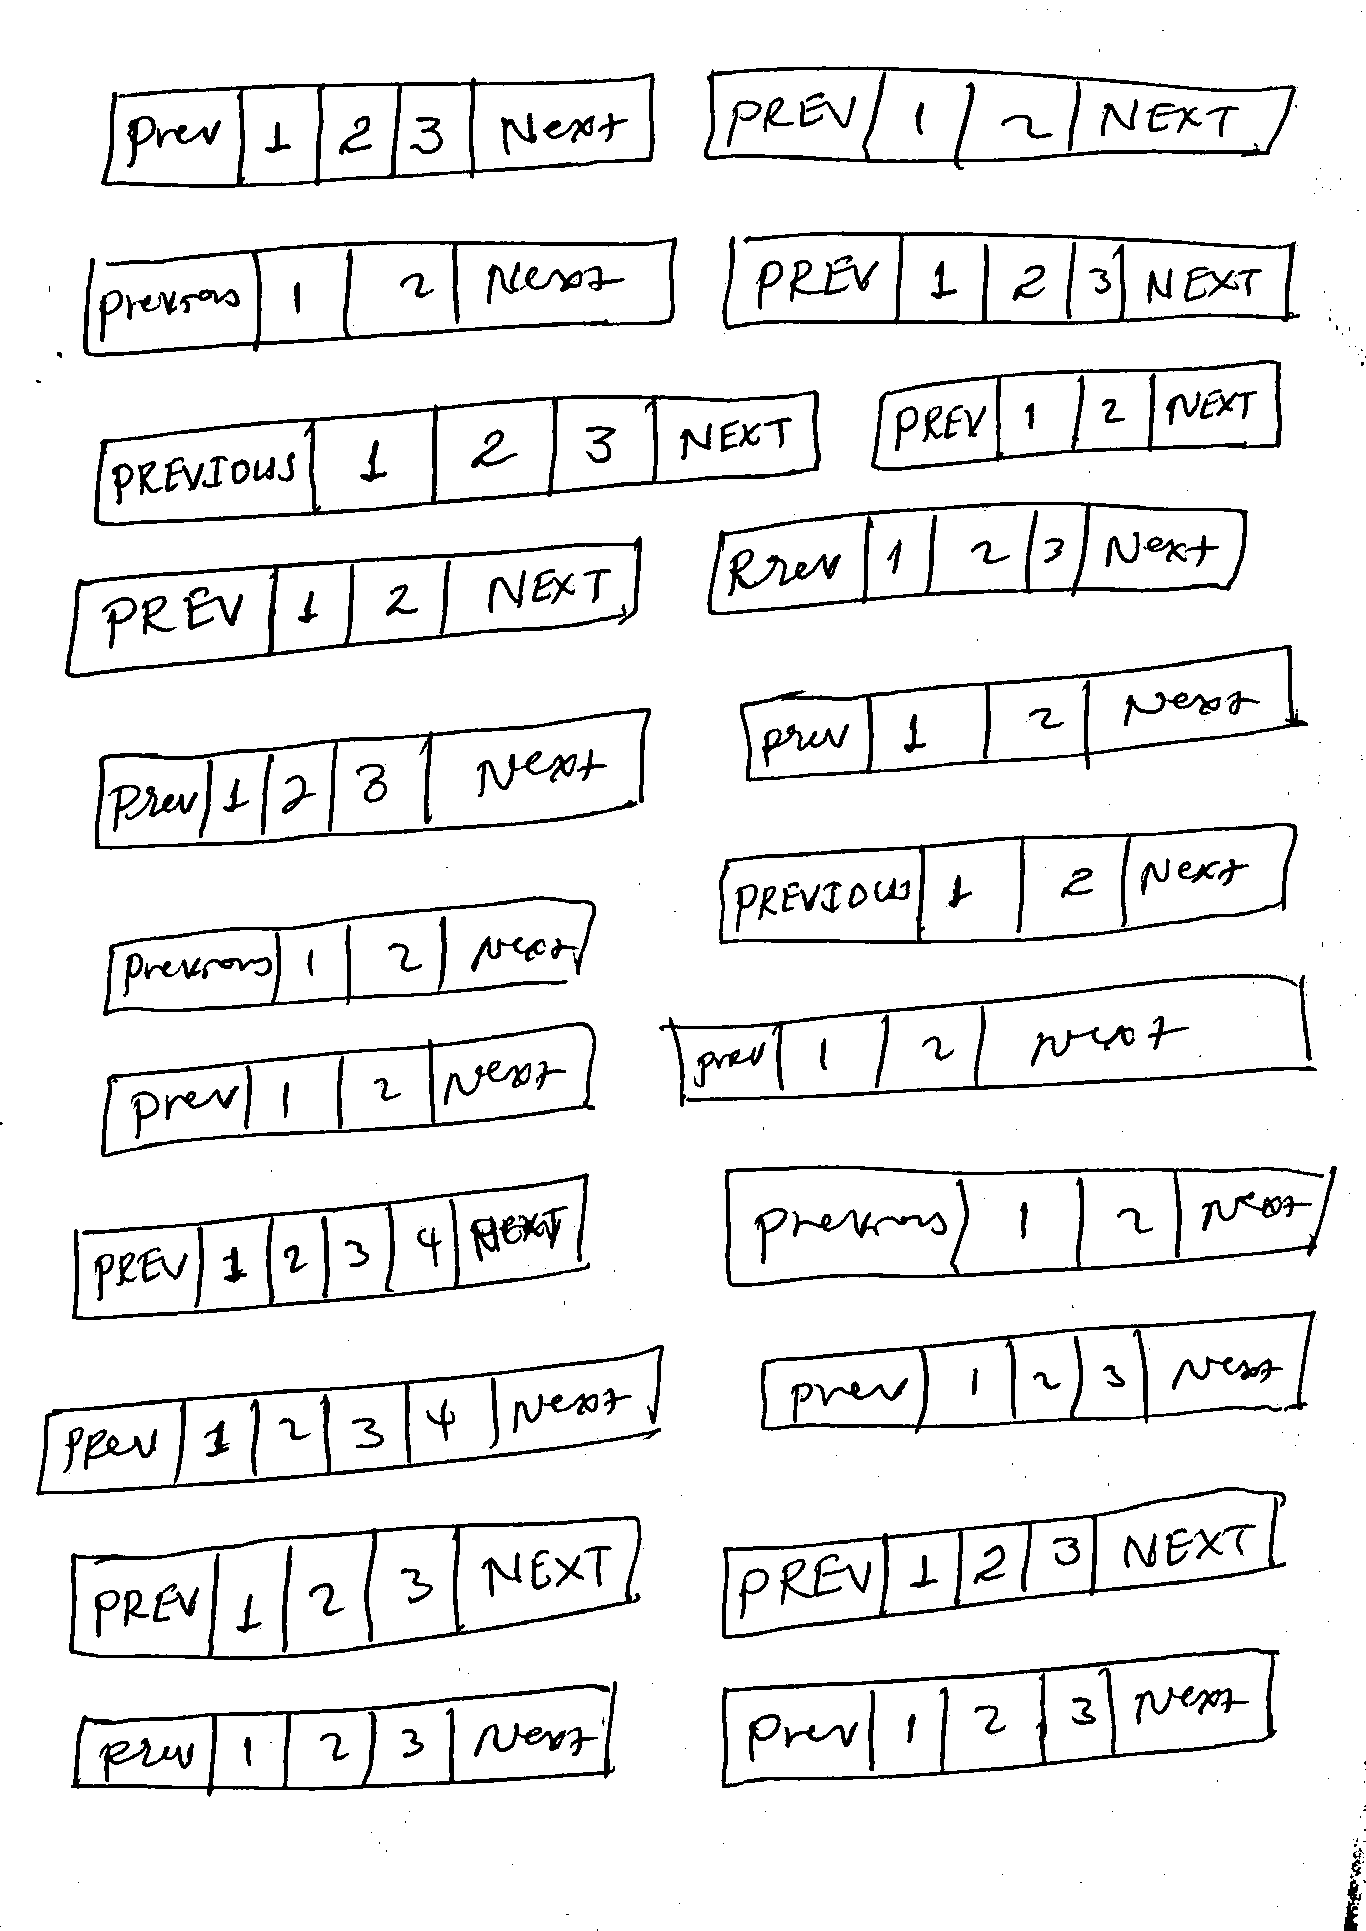Pagination: (89, 387, 822, 526), (33, 1343, 667, 1496), (718, 1482, 1285, 1641), (67, 1514, 646, 1666), (664, 971, 1317, 1104), (62, 537, 646, 679), (717, 1646, 1279, 1792), (92, 710, 652, 855), (738, 642, 1299, 784), (721, 1164, 1339, 1292), (69, 1172, 591, 1323), (78, 232, 679, 359), (714, 819, 1301, 946), (757, 1307, 1317, 1433), (95, 72, 662, 191), (704, 498, 1251, 617), (98, 895, 599, 1022), (69, 1680, 619, 1793), (699, 62, 1299, 166), (718, 226, 1299, 333), (866, 359, 1285, 472)
